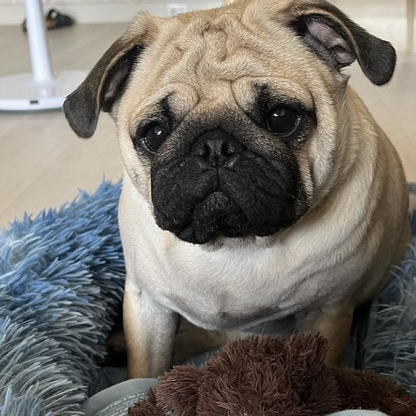Pug: (52, 1, 413, 392)
